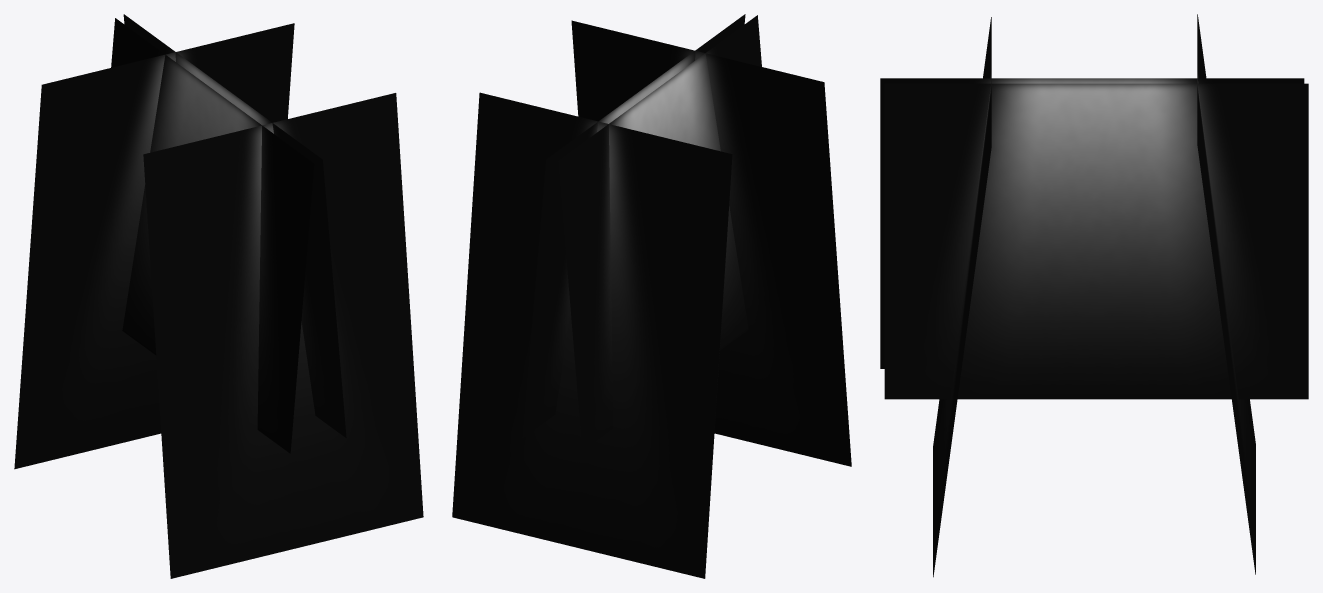
File: LightCone.FBX
The picture shows the model from 3 angles, left to right: view 1: azimuth 30°, elevation 25°; view 2: azimuth 150°, elevation 25°; view 3: azimuth 270°, elevation 25°; orthographic projection. The views are drawn at different scales.
Visible parts, largest first — view 1: LightCone_04, LightCone_03, LightCone_02, LightCone_01; view 2: LightCone_03, LightCone_04, LightCone_02, LightCone_01; view 3: LightCone_01, LightCone_04, LightCone_03, LightCone_02.
Boxes of the visible parts, bbox=[...] form: LightCone_04: bbox=[143, 93, 423, 578]; LightCone_03: bbox=[14, 23, 294, 469]; LightCone_02: bbox=[111, 18, 314, 453]; LightCone_01: bbox=[123, 14, 346, 438]; LightCone_03: bbox=[452, 92, 732, 578]; LightCone_04: bbox=[571, 20, 851, 466]; LightCone_02: bbox=[558, 15, 761, 450]; LightCone_01: bbox=[522, 14, 745, 438]; LightCone_01: bbox=[884, 83, 1308, 399]; LightCone_04: bbox=[933, 17, 991, 577]; LightCone_03: bbox=[1197, 14, 1255, 574]; LightCone_02: bbox=[880, 78, 1304, 368].
Size of the model in its own units: 137 by 205 by 185.
